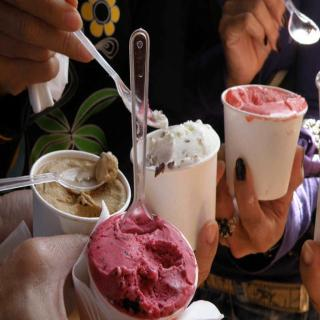Ice cream: (88, 210, 199, 320), (30, 146, 130, 222), (132, 96, 220, 180), (223, 80, 308, 130)
